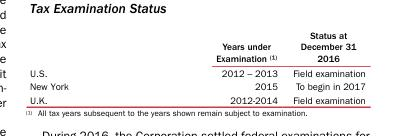table: (28, 28, 364, 105)
table column: (141, 28, 284, 105), (28, 28, 141, 105), (284, 28, 364, 105)
table column header: (28, 28, 364, 64)
table row: (28, 28, 364, 64), (28, 64, 364, 79), (28, 79, 364, 92), (28, 92, 364, 105)
